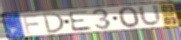3: (92, 8, 113, 32)
D: (41, 12, 66, 34)
E: (67, 10, 93, 32)
F: (21, 13, 42, 35)
O: (118, 6, 142, 29)
U: (136, 4, 164, 28)
